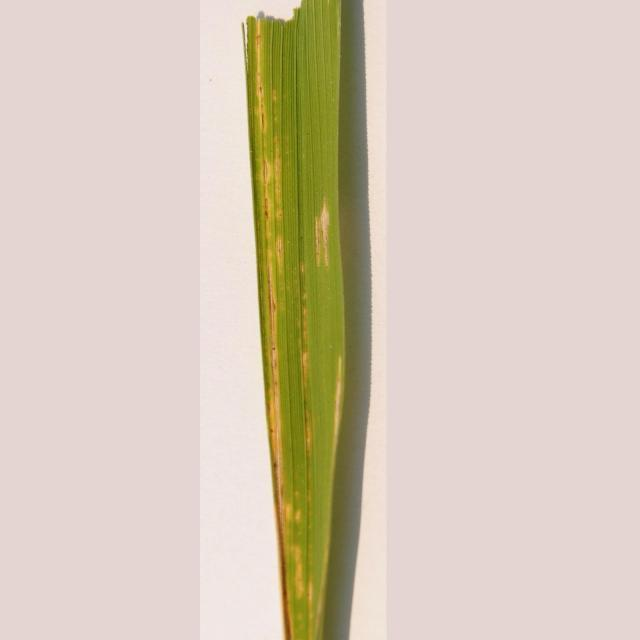Bacterial_Leaf_Blight: (224, 18, 401, 640)
